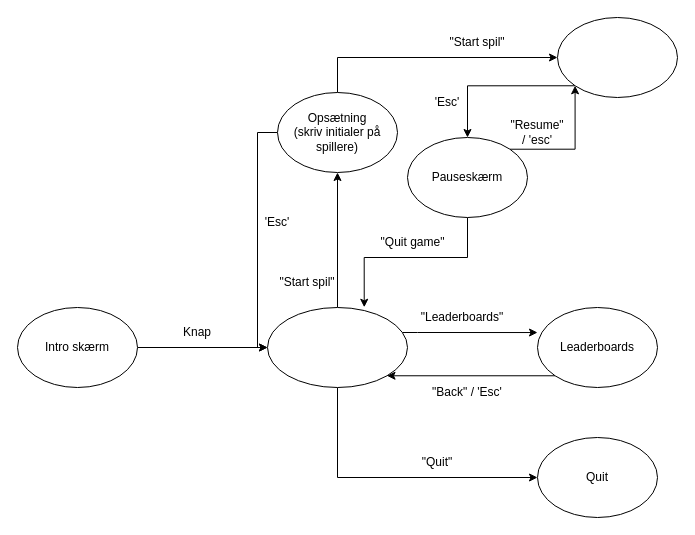
Some shapes in this 695 by 535 pixel diagram are drawn without their labels. Here are the shapes that lost their labels. From the top down, the centre of each, then its label:
[617,57]: Spil
[337,347]: Startskærm/main menu
